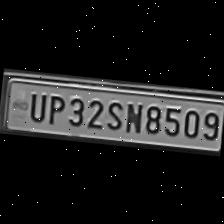0: (180, 105, 202, 138)
2: (83, 95, 105, 129)
3: (64, 93, 86, 127)
5: (161, 102, 182, 137)
8: (141, 100, 164, 135)
9: (199, 106, 222, 141)
N: (121, 98, 144, 134)
P: (42, 91, 66, 125)
S: (102, 96, 125, 130)
U: (24, 88, 47, 122)
